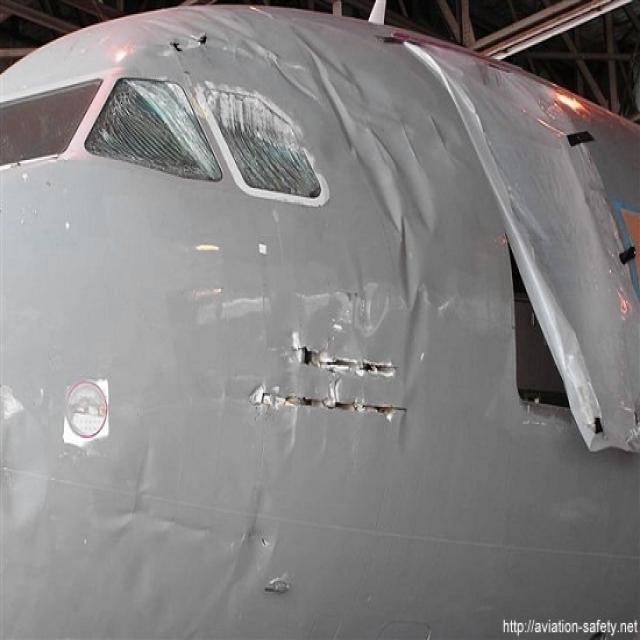crack: (246, 330, 413, 428)
